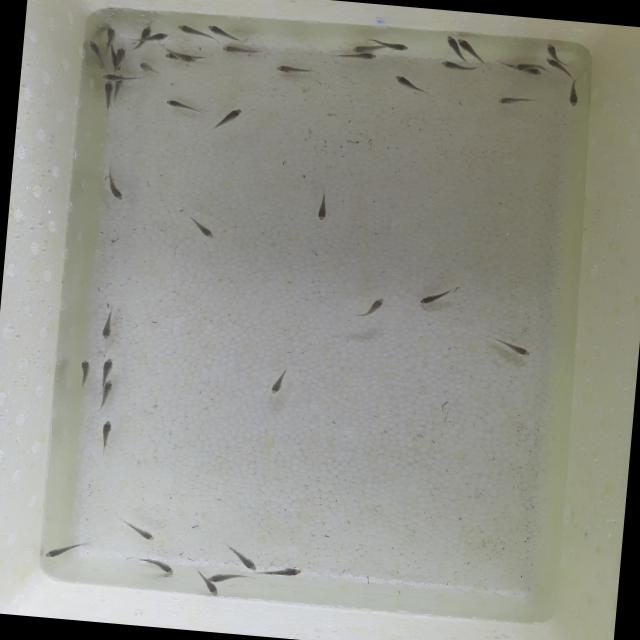fingerling: (133, 60, 175, 80), (43, 538, 80, 560), (230, 552, 264, 574), (124, 520, 156, 542), (361, 292, 388, 318), (160, 98, 200, 114), (210, 104, 240, 125), (416, 288, 447, 308), (138, 30, 172, 48), (458, 38, 484, 61), (189, 218, 218, 238), (496, 340, 532, 356), (492, 92, 524, 110), (374, 36, 410, 52), (392, 72, 422, 91), (146, 559, 177, 577), (438, 34, 458, 60), (98, 418, 116, 446), (336, 50, 377, 62), (168, 22, 197, 38), (100, 81, 114, 114), (436, 60, 474, 72), (218, 45, 256, 57), (94, 70, 130, 82), (202, 22, 232, 36), (98, 381, 114, 405), (268, 374, 284, 398), (276, 64, 314, 74), (105, 181, 124, 200), (538, 41, 562, 56), (76, 356, 90, 381), (86, 40, 104, 59), (271, 566, 302, 577), (348, 44, 382, 54), (567, 86, 582, 108), (538, 58, 562, 70), (100, 320, 116, 338), (178, 50, 200, 63), (98, 358, 113, 377), (102, 24, 116, 44), (316, 202, 328, 225), (205, 572, 230, 583), (511, 56, 528, 72), (134, 24, 155, 36), (114, 46, 125, 68), (202, 582, 218, 596), (114, 82, 122, 104)
